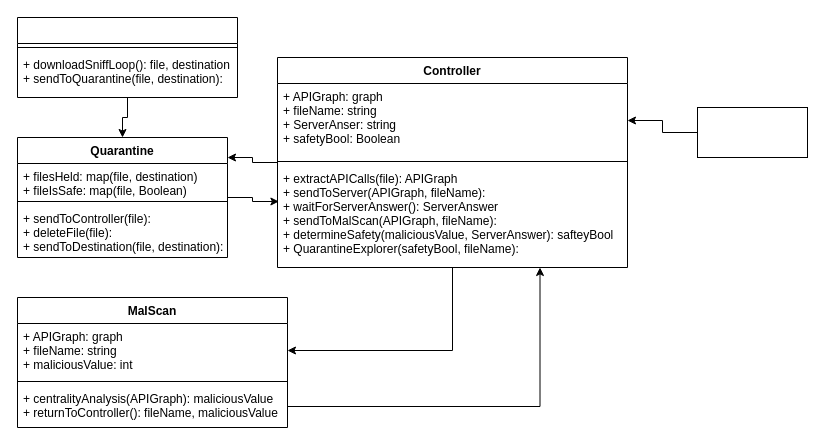
Some shapes in this 825 by 448 pixel diagram are drawn without their labels. Each missing label, with the box of its shape:
Download Sniffer: (16, 16, 238, 98)
«interface» GUI: (696, 106, 808, 158)
